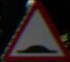Speed Breaker ahead: (7, 5, 59, 53)
